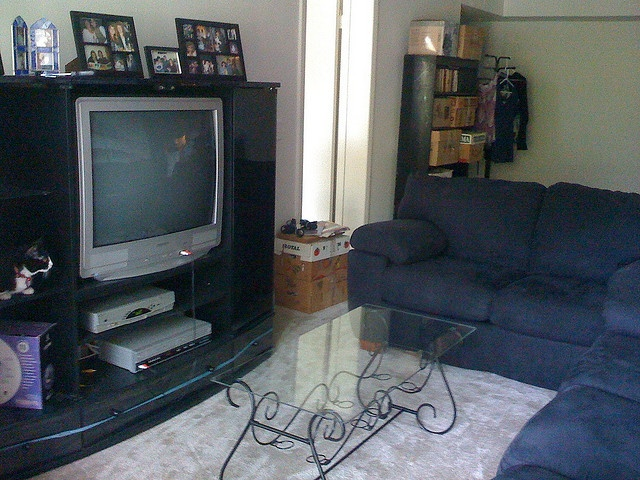cat: (2, 243, 55, 480)
